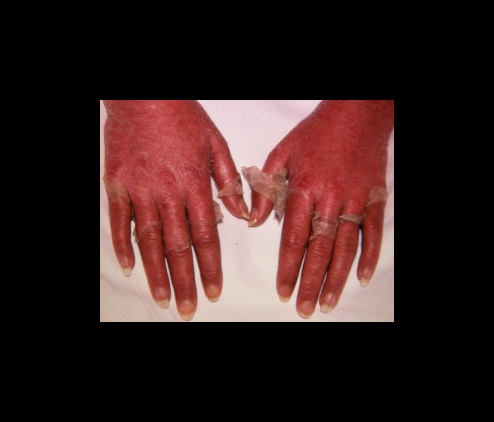SJS-TEN: (94, 86, 262, 333), (238, 99, 399, 322)
